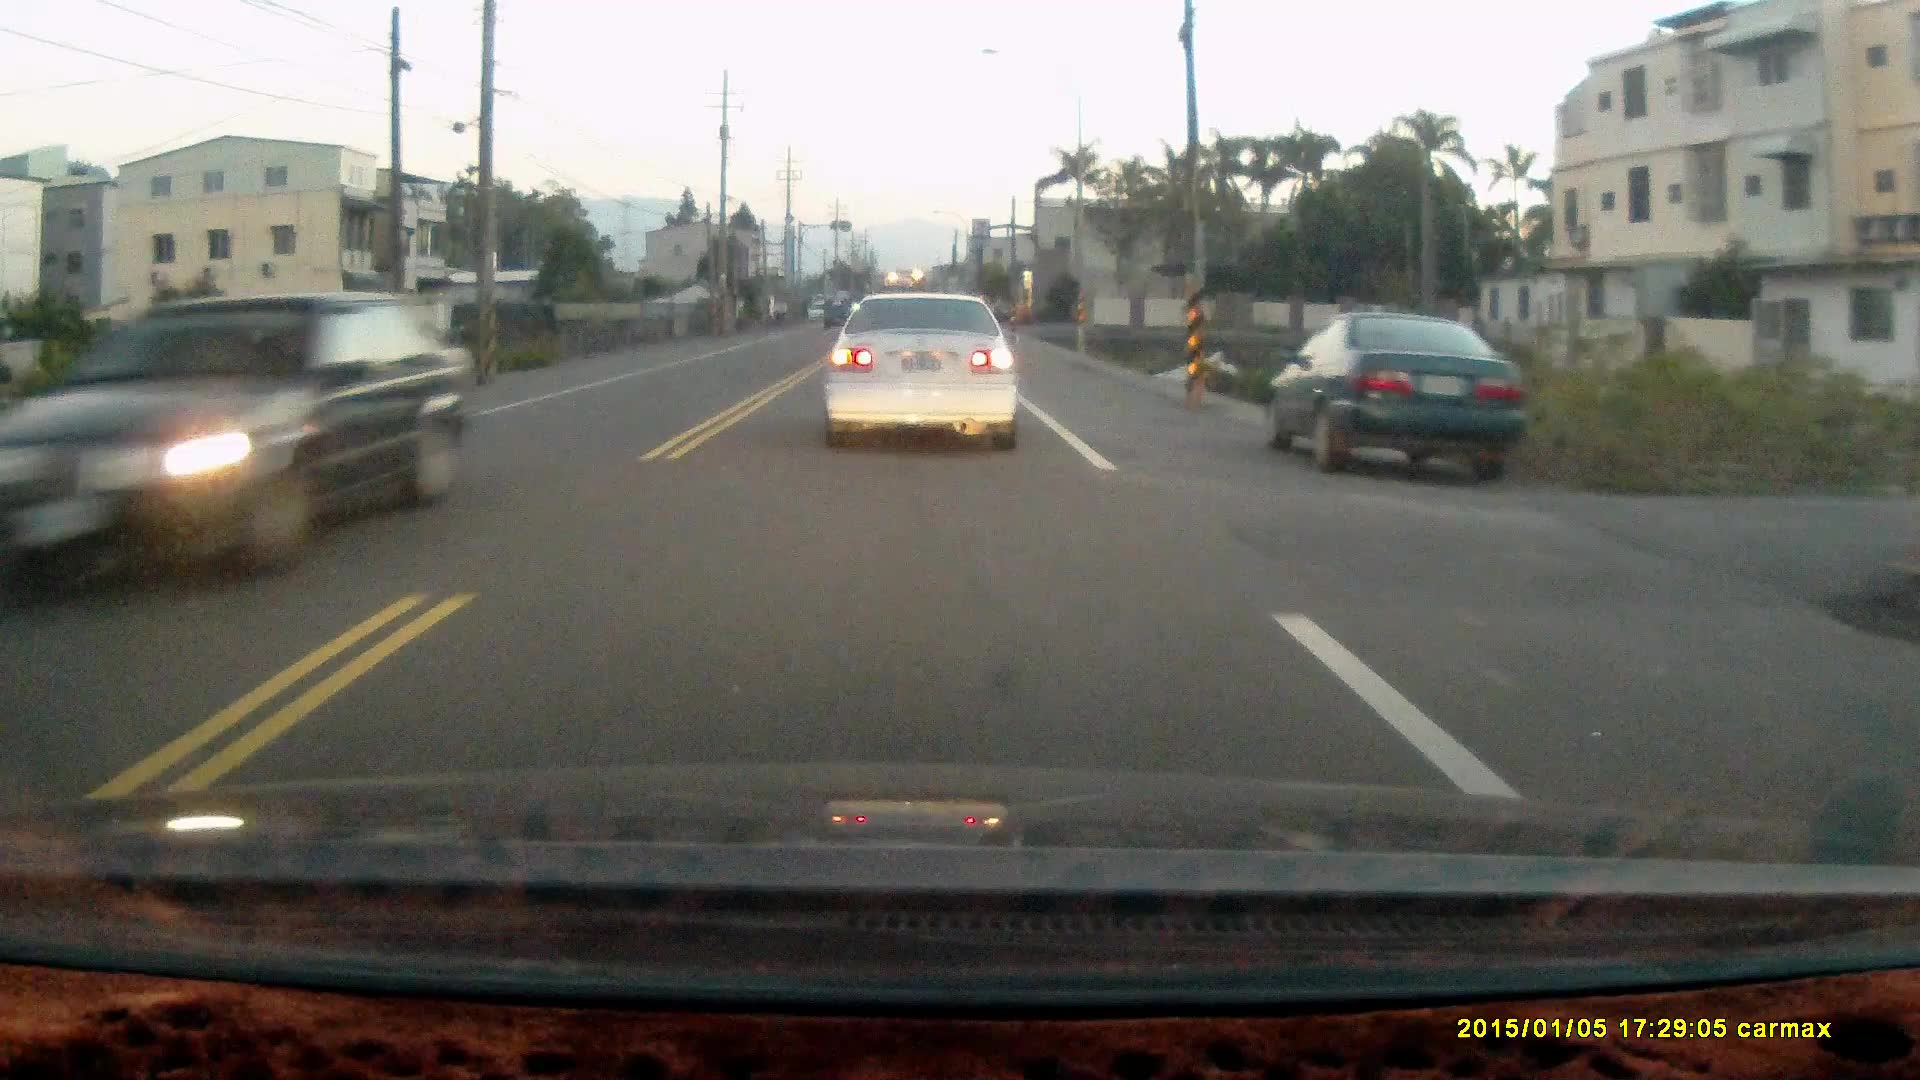vehicle: (11, 290, 456, 600), (1261, 311, 1520, 477), (822, 285, 1018, 443)
